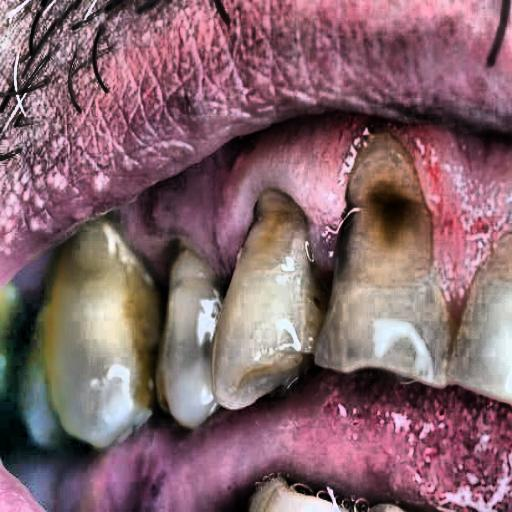Gingivitis: (169, 138, 510, 262)
